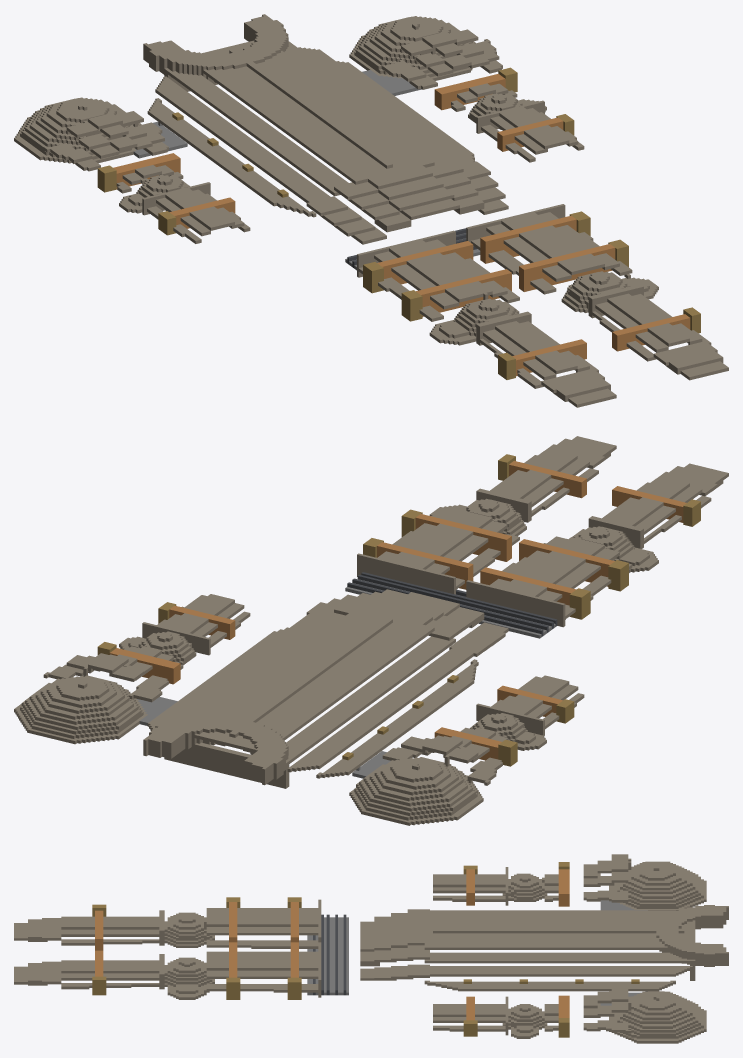
Rendered from armor_qt_heavyplate.glb.
The picture shows the model from 3 angles, top to bottom: view 1: azimuth 30°, elevation 25°; view 2: azimuth 150°, elevation 25°; view 3: azimuth 270°, elevation 25°; orthographic projection. The views are drawn at different scales.
Visible parts, largest first — view 1: armor_qt_heavyplate:compound; view 2: armor_qt_heavyplate:compound; view 3: armor_qt_heavyplate:compound.
Part boxes in pixels (x1,y1,x2,y2): armor_qt_heavyplate:compound: (14, 14, 728, 407); armor_qt_heavyplate:compound: (14, 436, 728, 825); armor_qt_heavyplate:compound: (14, 854, 728, 1043).
Size of the model in its own units: 0.876 by 0.066 by 1.54.
